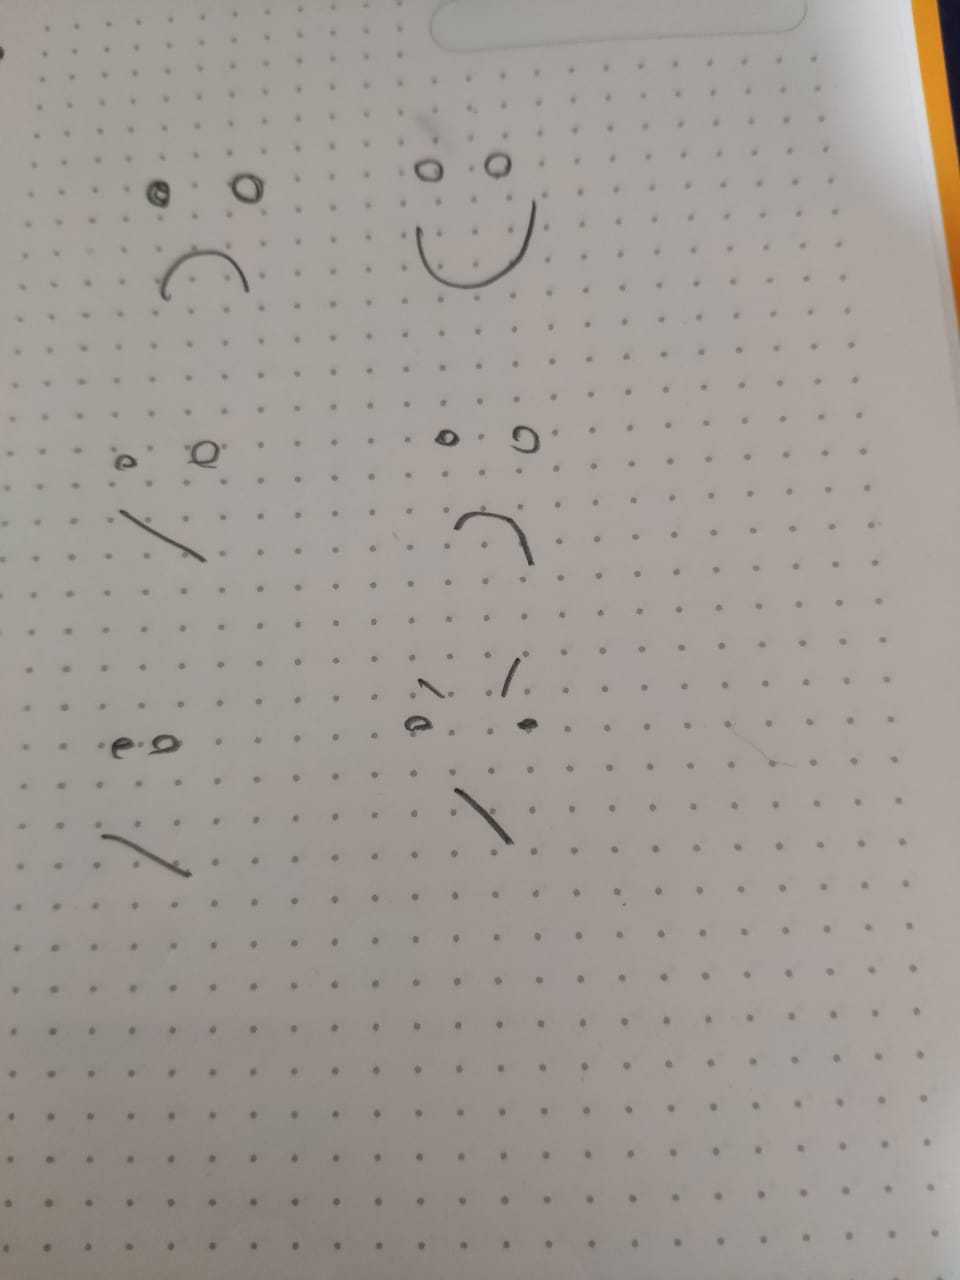feliz: (390, 127, 565, 325)
